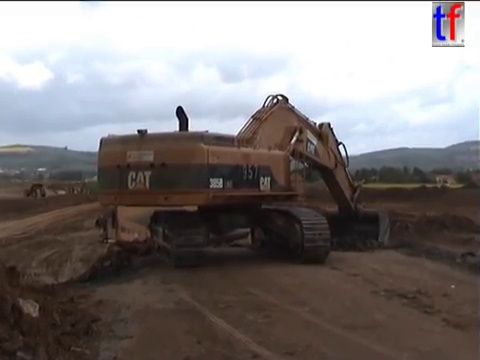truck: (94, 91, 393, 264), (93, 199, 252, 275), (23, 181, 48, 200)
